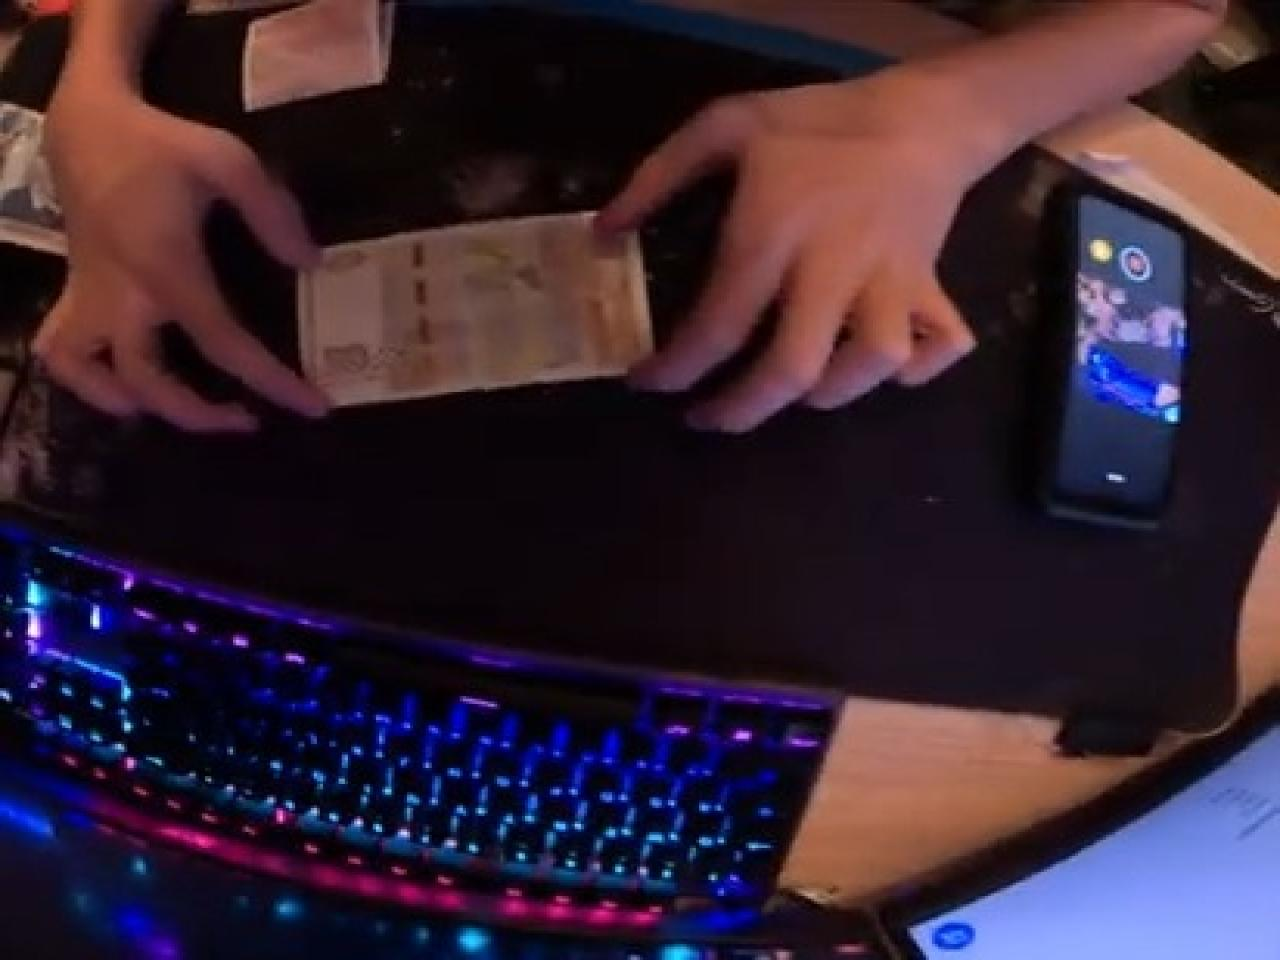50leva: (295, 206, 658, 405)
